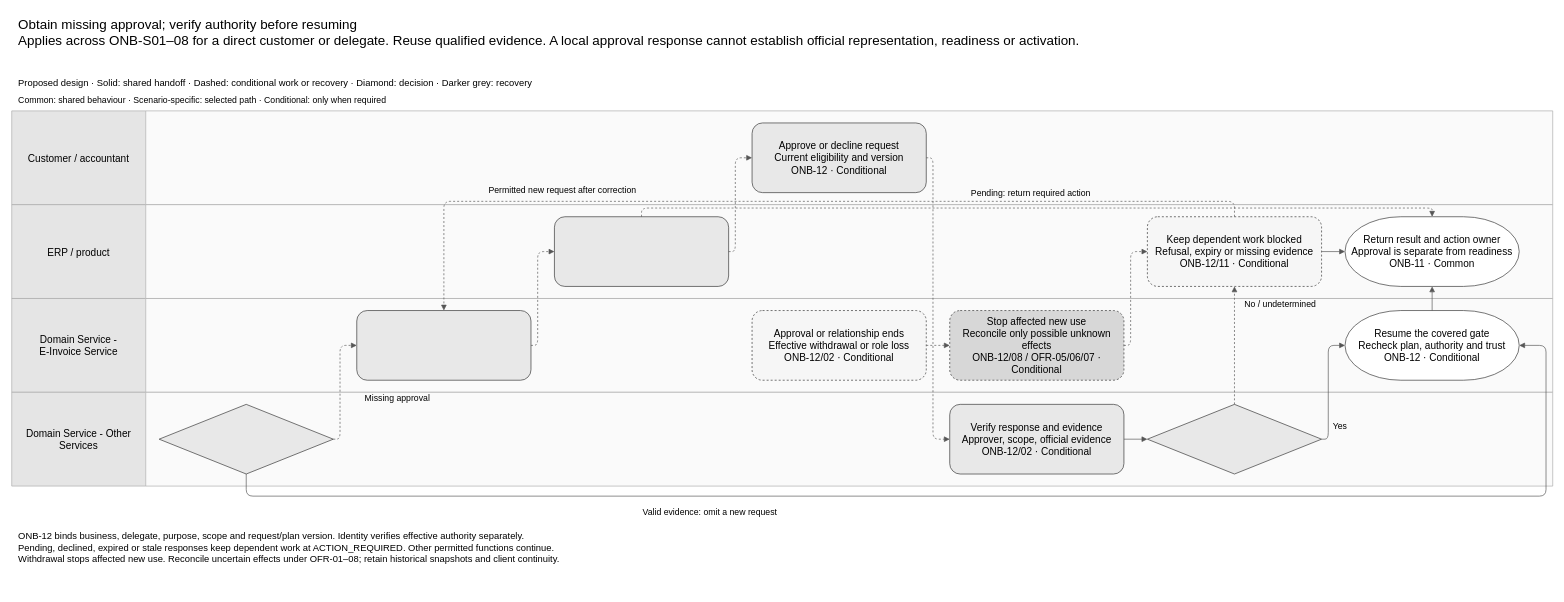
Some shapes in this 1564 by 602 pixel diagram are drawn without their labels. The centre of each missing label's shape, as x and y in pixels:
"Authority effective? ONB-02 · Common" belongs at [1234,439].
"Current evidence covers decision? ONB-02 · Common" belongs at [245,439].
"Present the client action Eligible approver; exact scope ONB-12/11 · Conditional" belongs at [641,251].
"Save scoped approval request Requester, purpose and version ONB-12 · Conditional" belongs at [443,345].
